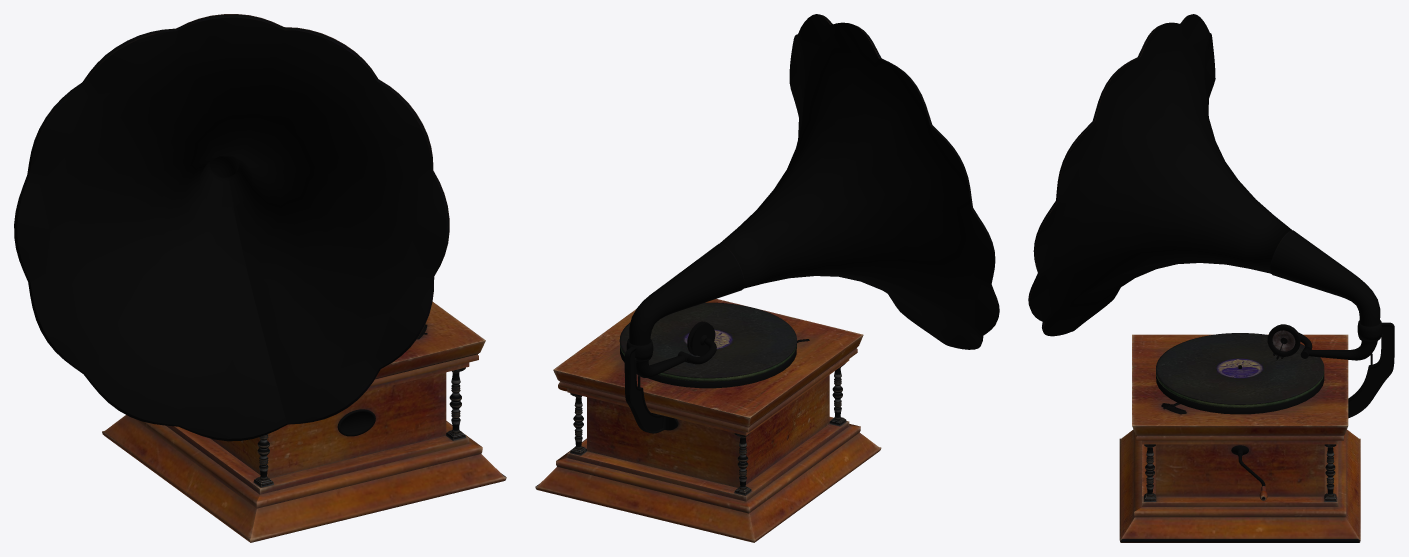
Rendered from gramophone.glb.
The picture shows the model from 3 angles, left to right: view 1: azimuth 30°, elevation 25°; view 2: azimuth 150°, elevation 25°; view 3: azimuth 270°, elevation 25°; orthographic projection. The views are drawn at different scales.
Parts seen in each view (by area): view 1: desirefx.me_001.001; view 2: desirefx.me_001.001; view 3: desirefx.me_001.001.
Boxes of the visible parts, x1,y1,x2,y2 form: desirefx.me_001.001: (14,14,506,542); desirefx.me_001.001: (535,14,999,542); desirefx.me_001.001: (1028,14,1394,542).
Bounding box in the file's own units: 1.03 × 1.07 × 0.8507.
Materials: 1 (1 with a texture image).
